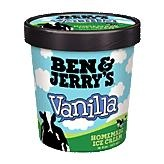grozi_118: (23, 12, 141, 152)
